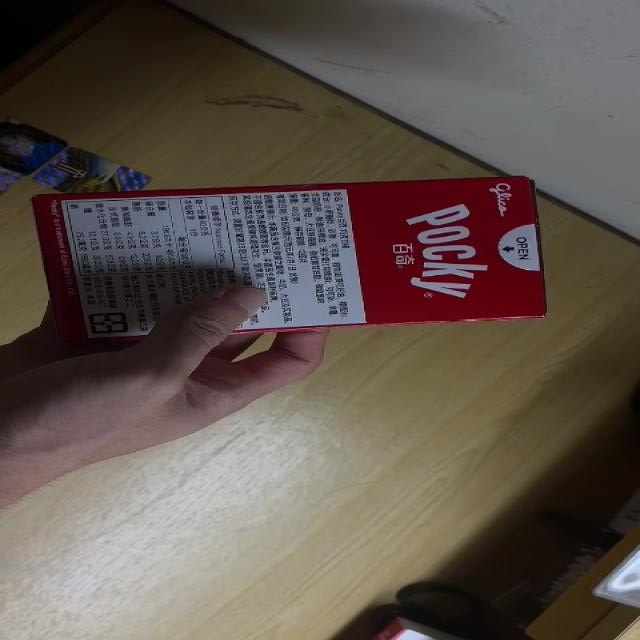Pocky: (30, 173, 549, 349)
